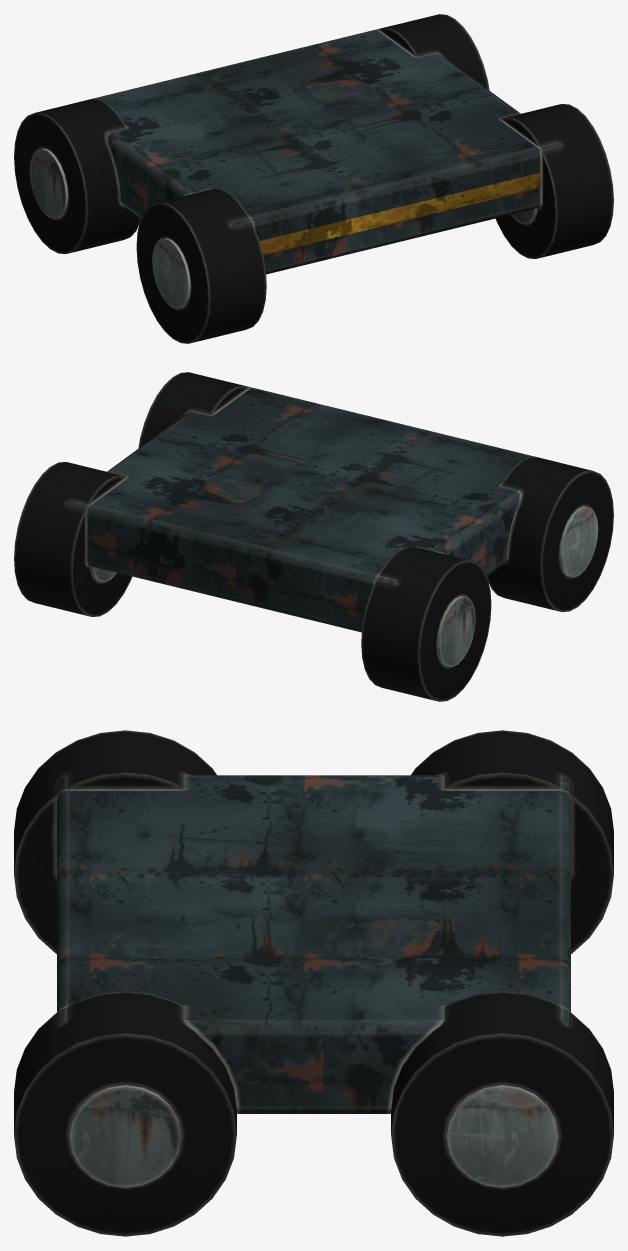
Rendered from wheel.glb.
3 views of the same model, one above another, from view 1: azimuth 30°, elevation 25°; view 2: azimuth 150°, elevation 25°; view 3: azimuth 270°, elevation 25° (orthographic). The views are drawn at different scales.
Visible parts, largest first — view 1: te_wheel; view 2: te_wheel; view 3: te_wheel.
Part boxes in pixels (box(x1,y1,x2,y2)): te_wheel: box(14, 14, 613, 343); te_wheel: box(14, 372, 613, 701); te_wheel: box(14, 730, 613, 1236).
Size of the model in its own units: 0.85 by 0.26 by 0.7.
1 material, 1 textured.
